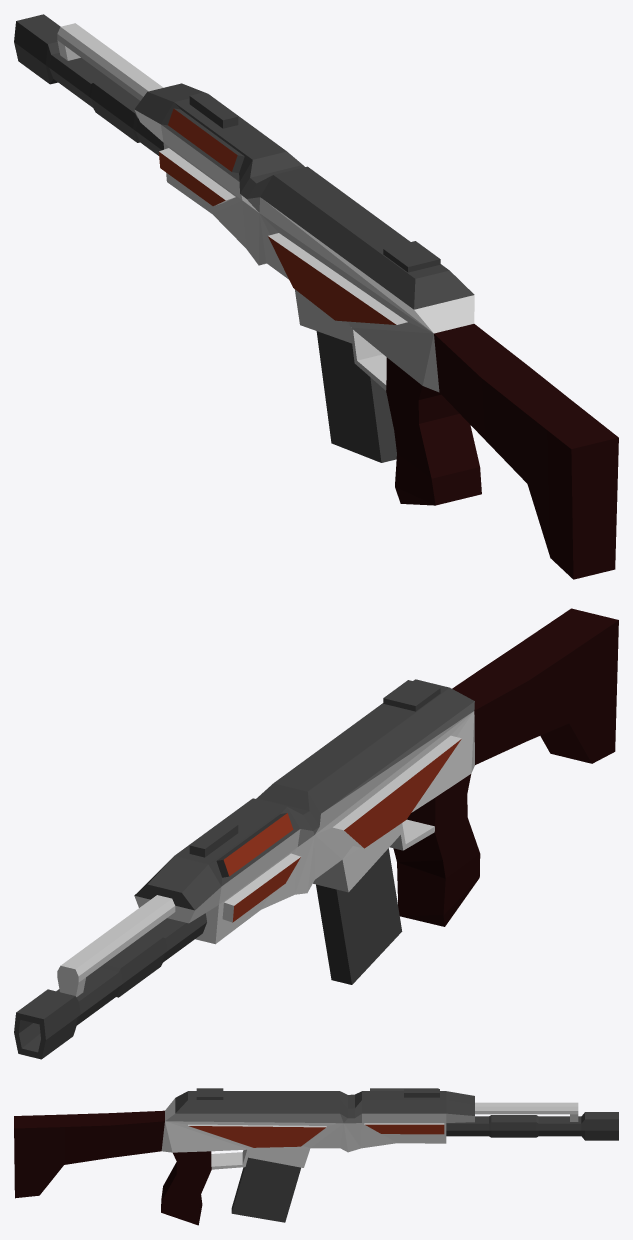
3 views of the same model, one above another, from view 1: azimuth 30°, elevation 25°; view 2: azimuth 150°, elevation 25°; view 3: azimuth 270°, elevation 25° (orthographic). The views are drawn at different scales.
Visible parts, largest first — view 1: AR_Mesh; view 2: AR_Mesh; view 3: AR_Mesh.
Boxes of the visible parts, x1,y1,x2,y2 form: AR_Mesh: (14,14,618,579); AR_Mesh: (14,608,618,1059); AR_Mesh: (14,1088,618,1225).
Bounding box in the file's own units: 0.7041 × 2.17 × 9.24.
